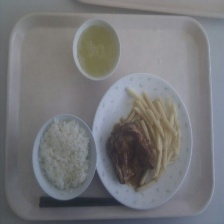dal: (72, 23, 124, 80)
